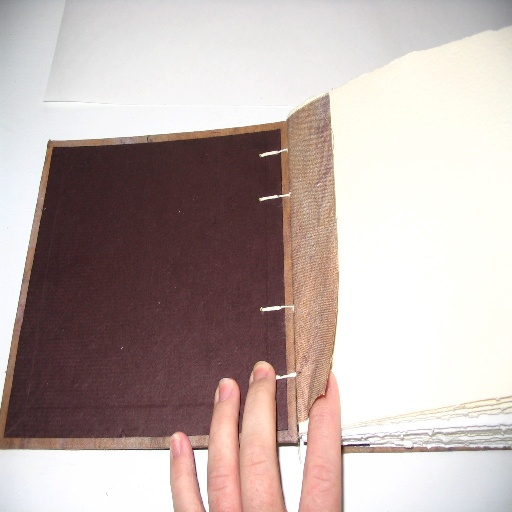hand: (169, 361, 341, 511)
